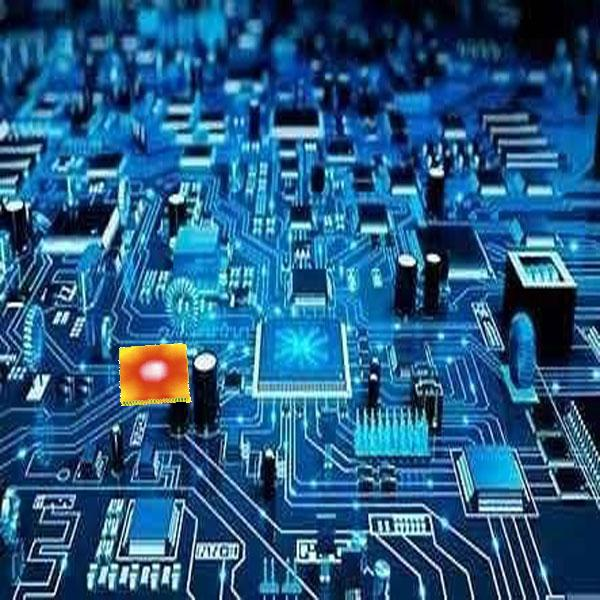componente_T: (114, 344, 195, 409)
